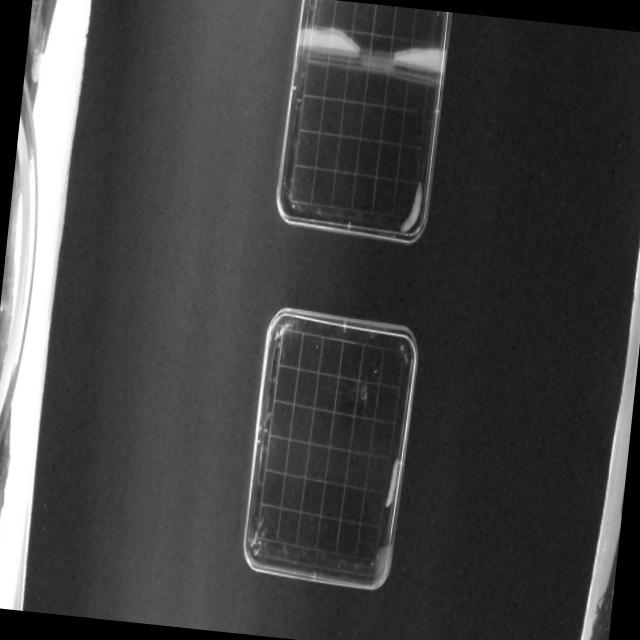larva: (398, 178, 426, 236), (384, 456, 400, 508)
